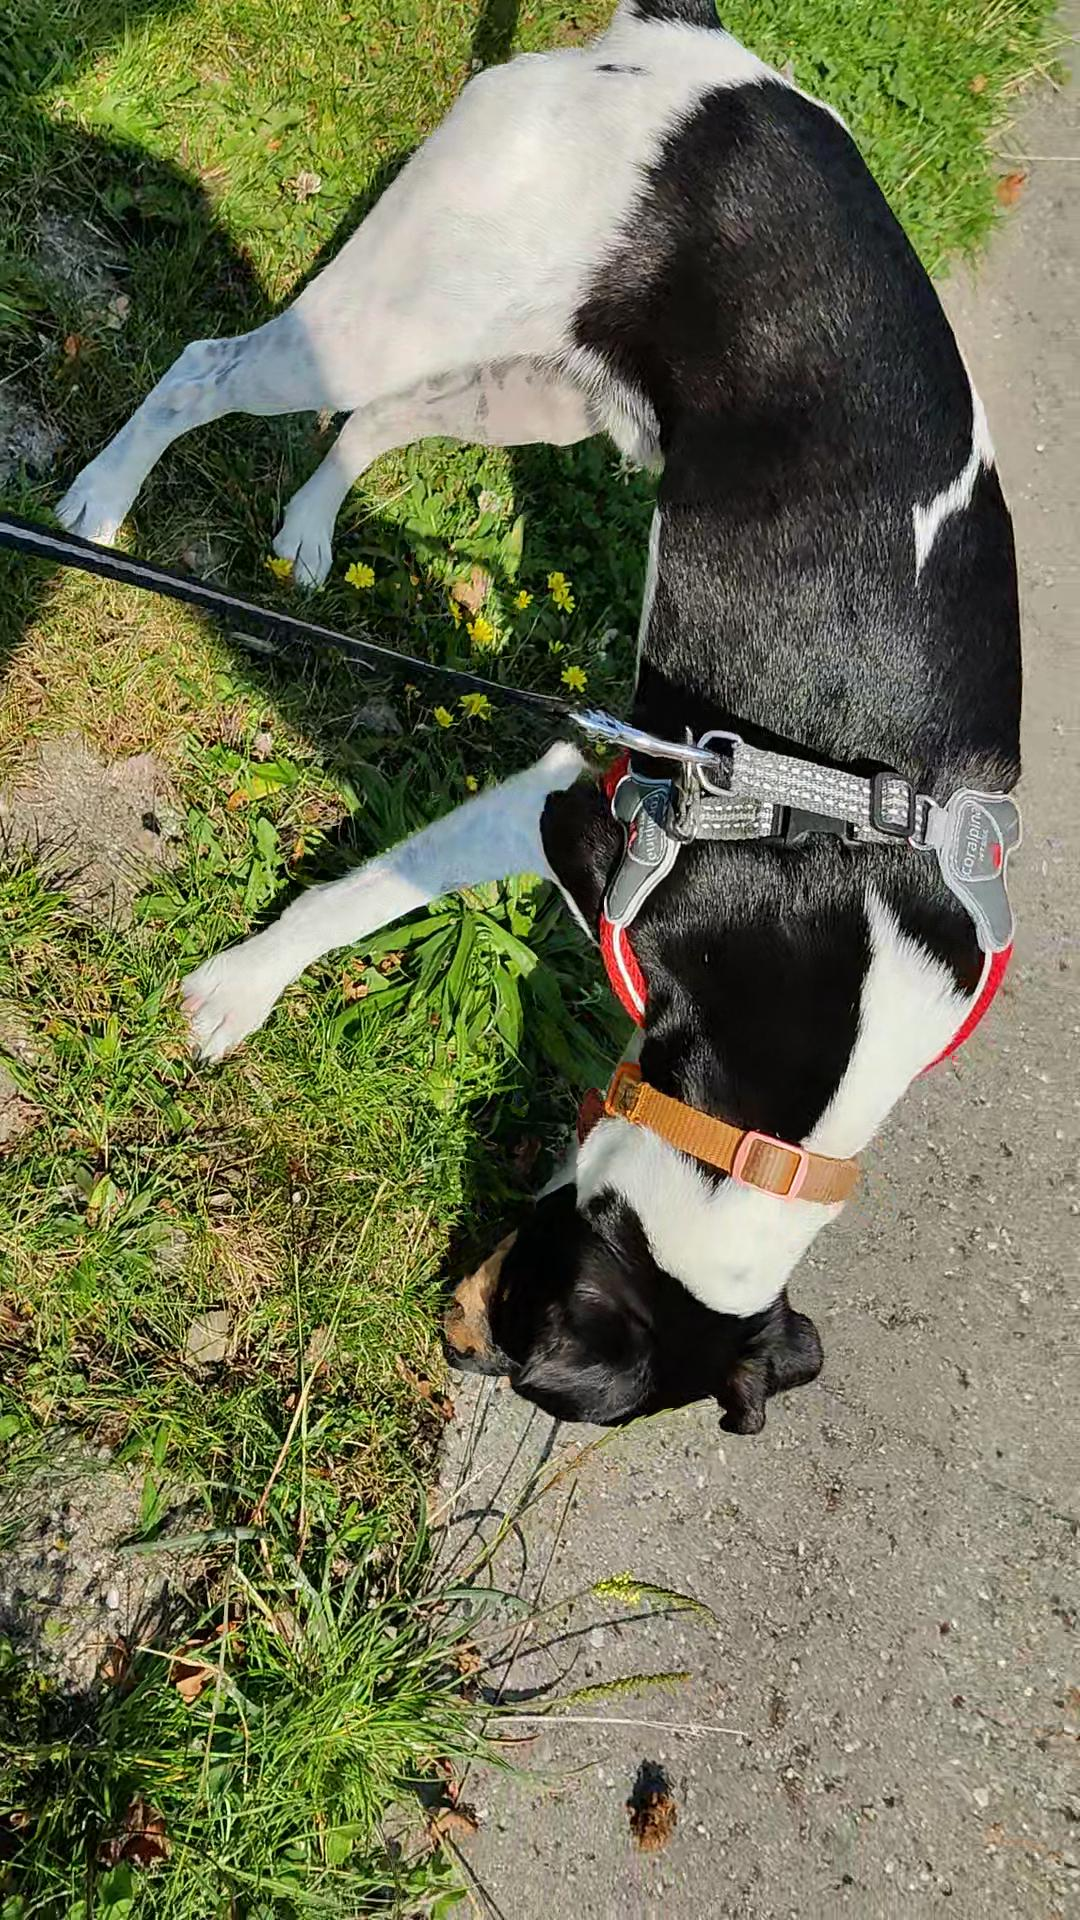Dog: (26, 0, 1079, 1448)
